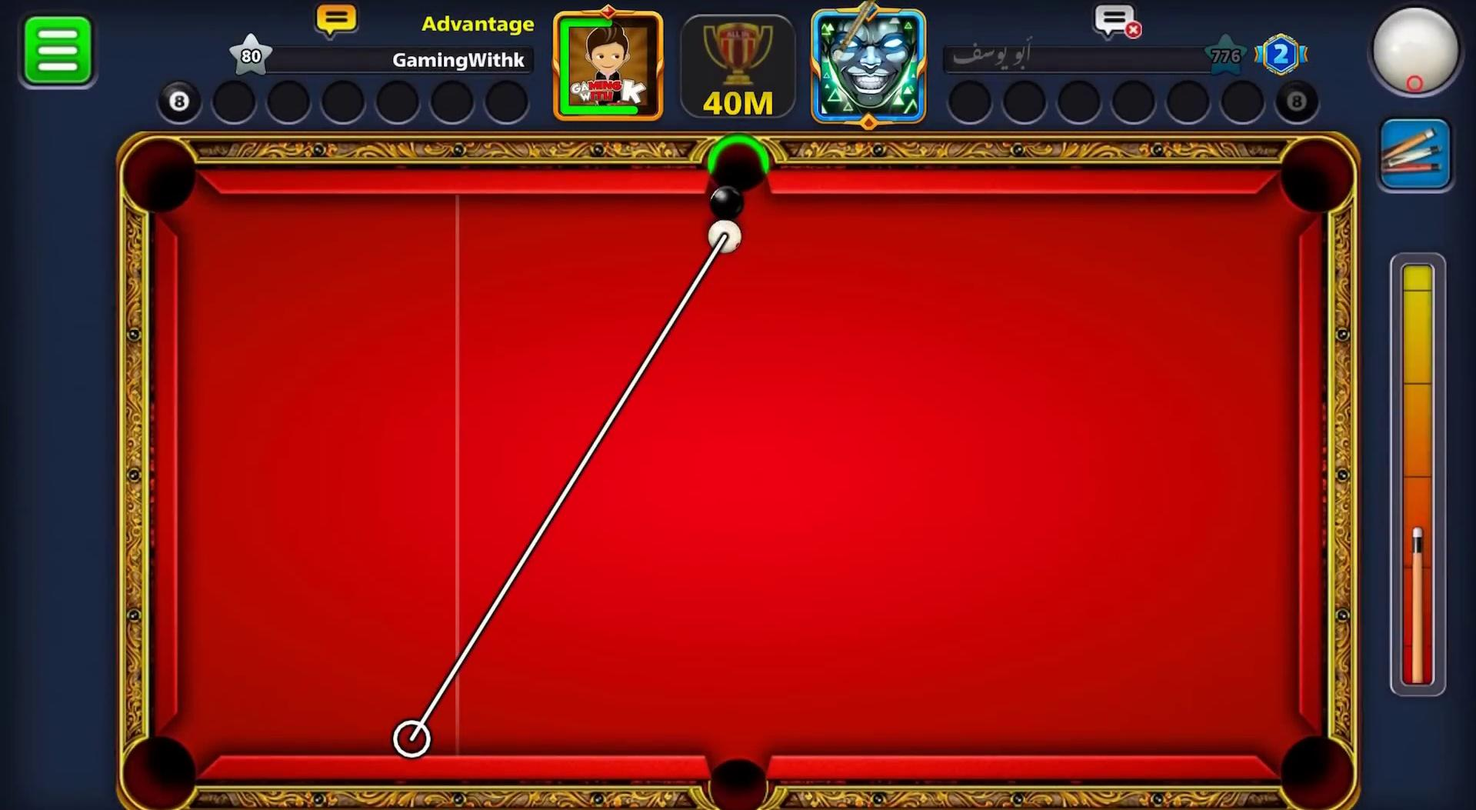Ball: (702, 178, 752, 226)
Force: (1390, 255, 1451, 703)
Guideline: (402, 224, 737, 756)
Hole: (1267, 120, 1366, 228), (1254, 719, 1372, 809), (701, 126, 772, 223), (122, 135, 199, 212), (122, 732, 198, 808), (705, 755, 769, 809)
Play_Area: (145, 192, 1298, 754)
Spin: (1360, 0, 1475, 111)
White: (702, 218, 743, 255)
